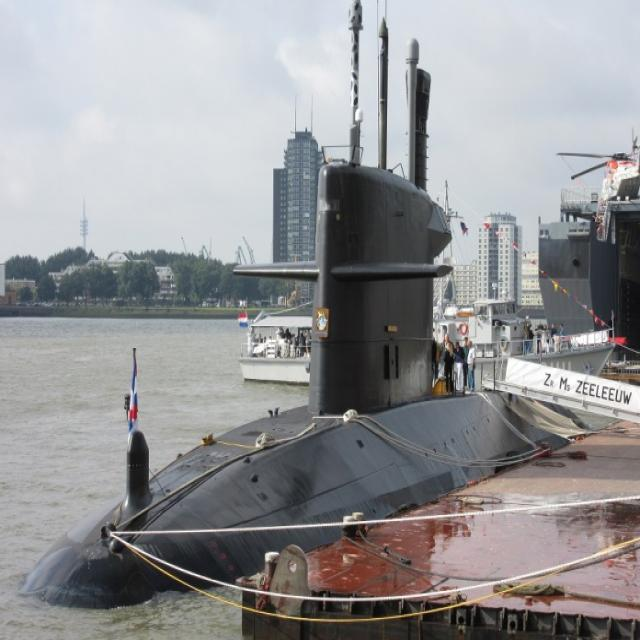submarine: (20, 1, 589, 614)
